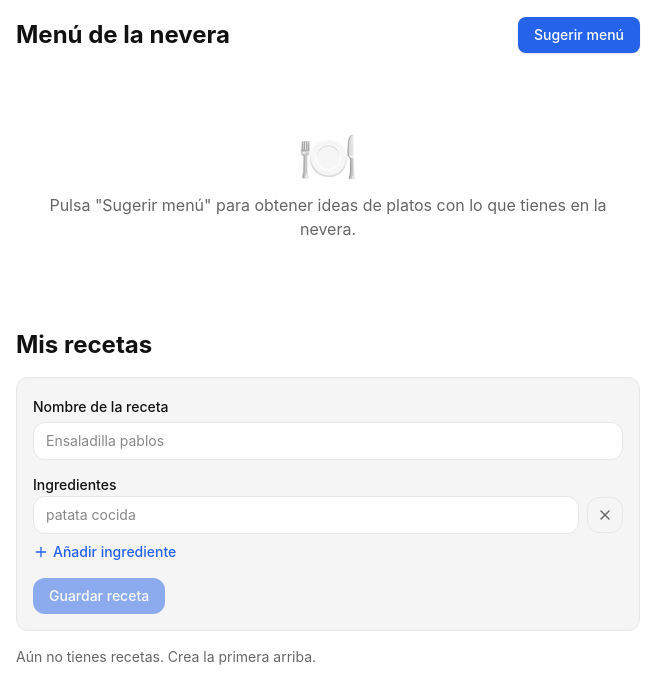
Test: MenuPage › muestra el aviso de IA no disponible cuando la sugerencia devuelve 503
Click the button "Sugerir menú" at (579, 35), box [518,17,640,53]
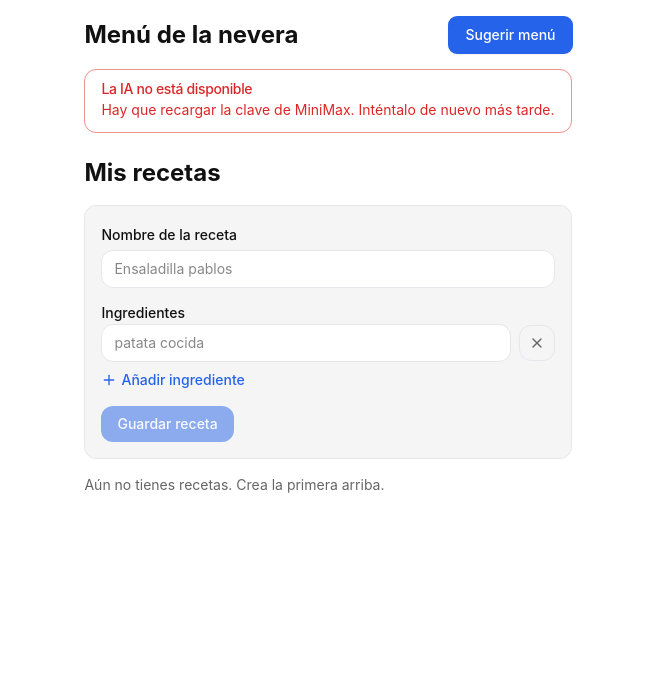
Expected: the message is shown, [84,69,572,133]
Expected: the heading "La IA no está disponible" is shown, [102,80,252,97]
Expected: the text "recargar la clave de MiniMax" is shown, [102,101,555,118]
